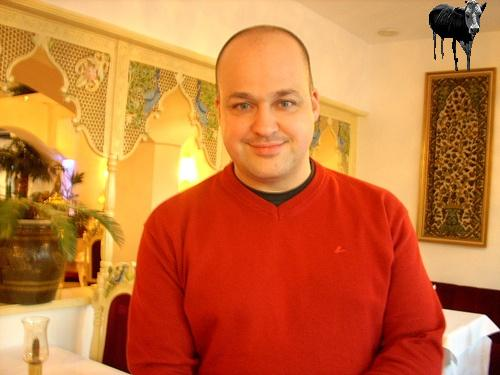tampered: (430, 1, 487, 71)
